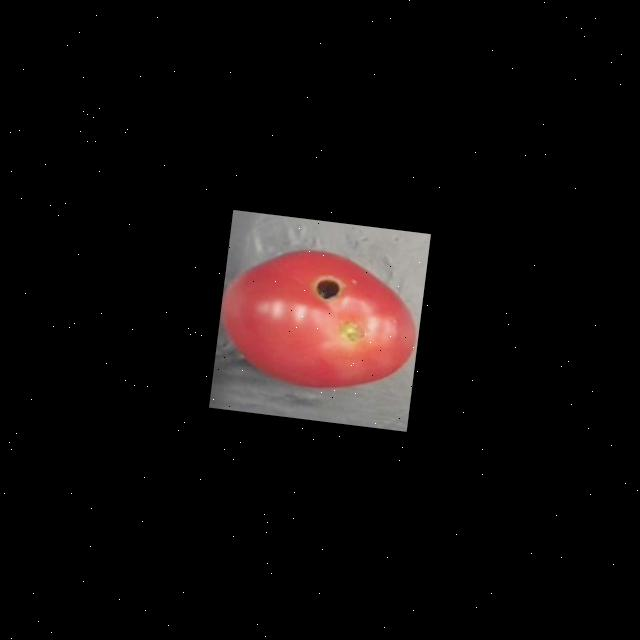tomato: (212, 232, 428, 407)
